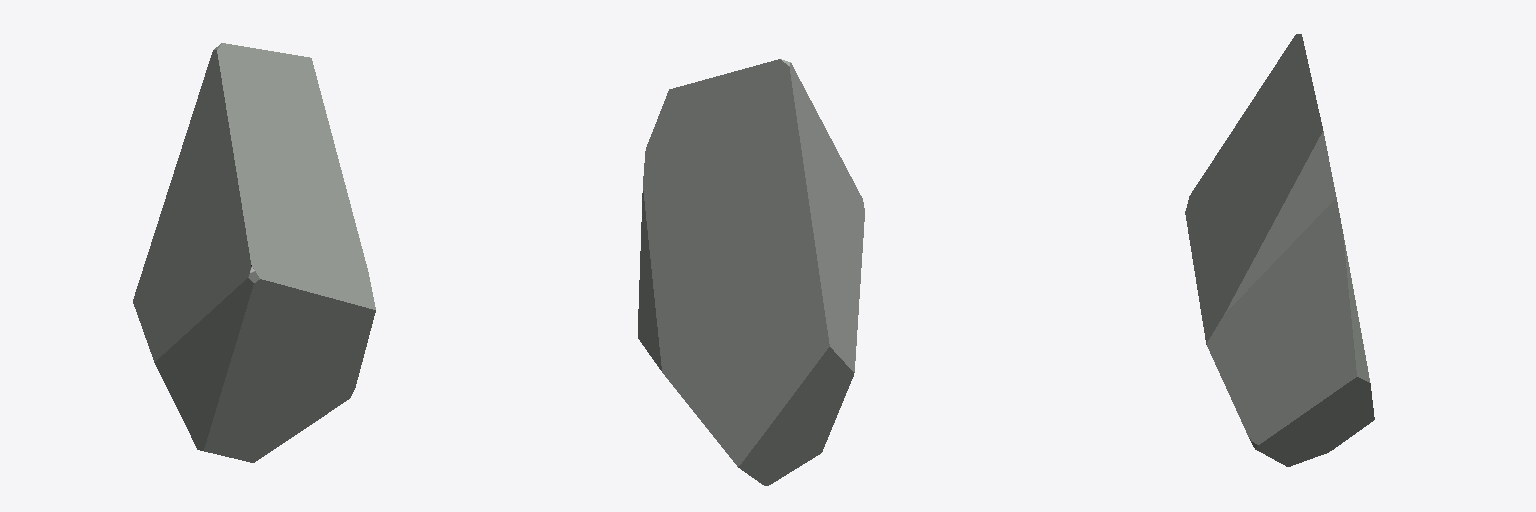
3 renders of one model, left to right at view 1: azimuth 30°, elevation 25°; view 2: azimuth 150°, elevation 25°; view 3: azimuth 270°, elevation 25°, orthographic.
Visible parts, largest first — view 1: Cube; view 2: Cube; view 3: Cube.
Part boxes in pixels (bbox=[...]): Cube: bbox=[133, 43, 375, 462]; Cube: bbox=[638, 59, 864, 485]; Cube: bbox=[1185, 34, 1374, 466].
Size of the model in its own units: 1.47 by 3.15 by 1.29.
Materials: 1 (1 with a texture image).